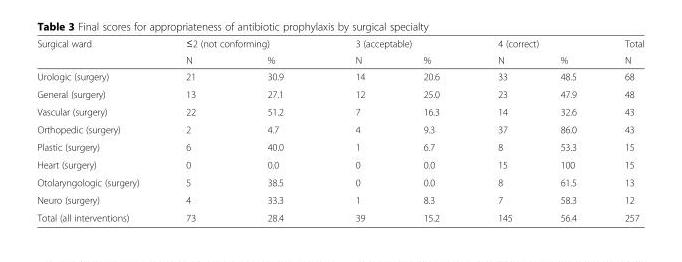table: (36, 37, 643, 222)
table column: (36, 37, 161, 222), (230, 37, 318, 222), (318, 37, 393, 222), (393, 37, 467, 222), (161, 37, 230, 222), (467, 37, 535, 222), (535, 37, 599, 222), (599, 37, 643, 222)
table column header: (36, 37, 643, 67)
table row: (36, 67, 643, 85), (36, 102, 643, 120), (36, 137, 643, 155), (36, 155, 643, 173), (36, 190, 643, 208), (36, 85, 643, 102), (36, 120, 643, 137), (36, 173, 643, 190), (36, 51, 643, 67), (36, 37, 643, 51), (36, 208, 643, 222)
table spanning cell: (36, 37, 161, 67), (161, 37, 318, 51), (318, 37, 467, 51), (467, 37, 599, 51), (599, 37, 643, 67)
